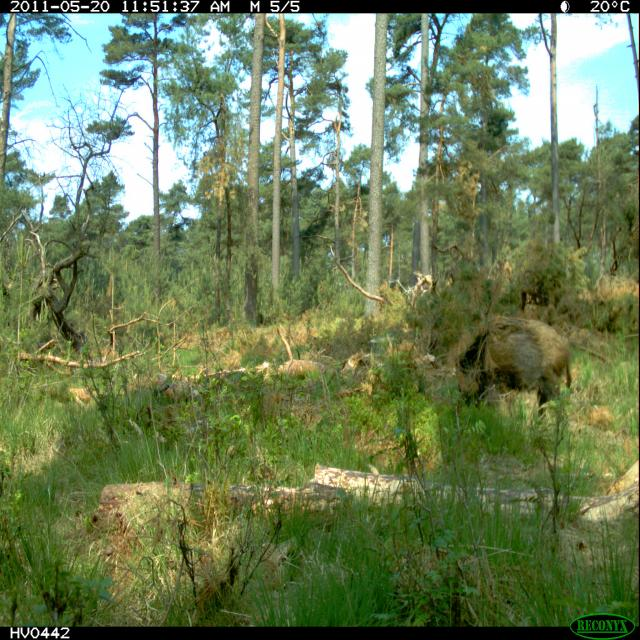boar: (436, 298, 594, 438)
